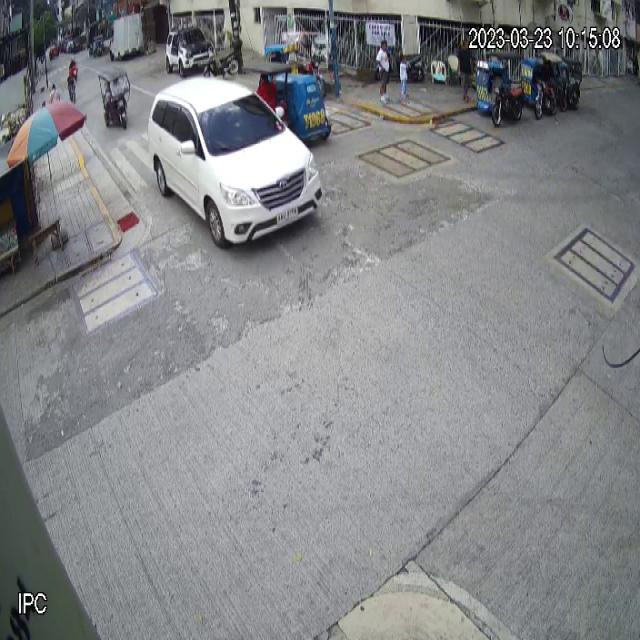Car: (148, 77, 323, 250)
Tricycle: (256, 61, 332, 153), (475, 50, 525, 127)
